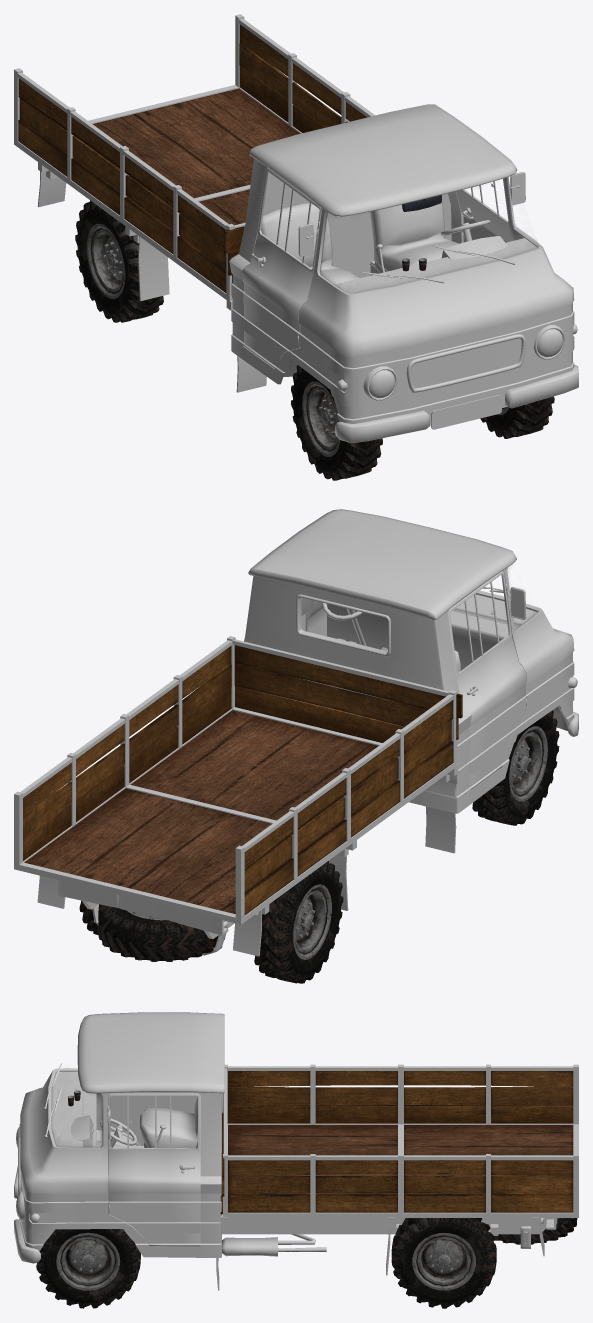
3 renders of one model, top to bottom at view 1: azimuth 30°, elevation 25°; view 2: azimuth 150°, elevation 25°; view 3: azimuth 270°, elevation 25°, orthographic. The views are drawn at different scales.
Parts seen in each view (by area): view 1: Box080_4, Tire_1, Tire001_0, Plane003_3; view 2: Box080_4, Tire001_0, Tire_1, Tire002_2; view 3: Box080_4, Tire001_0, Tire_1, Tire002_2.
Boxes of the visible parts, x1,y1,x2,y2 form: Box080_4: [14, 14, 578, 443]; Tire_1: [291, 365, 554, 480]; Tire001_0: [75, 200, 163, 322]; Plane003_3: [320, 190, 538, 292]; Box080_4: [14, 509, 578, 956]; Tire001_0: [79, 861, 343, 983]; Tire_1: [472, 710, 559, 825]; Tire002_2: [98, 904, 225, 961]; Box080_4: [14, 1012, 578, 1290]; Tire001_0: [391, 1218, 496, 1308]; Tire_1: [36, 1229, 140, 1308]; Tire002_2: [494, 1218, 577, 1244].
Bounding box in the file's own units: 1.92 × 2.09 × 4.74.
